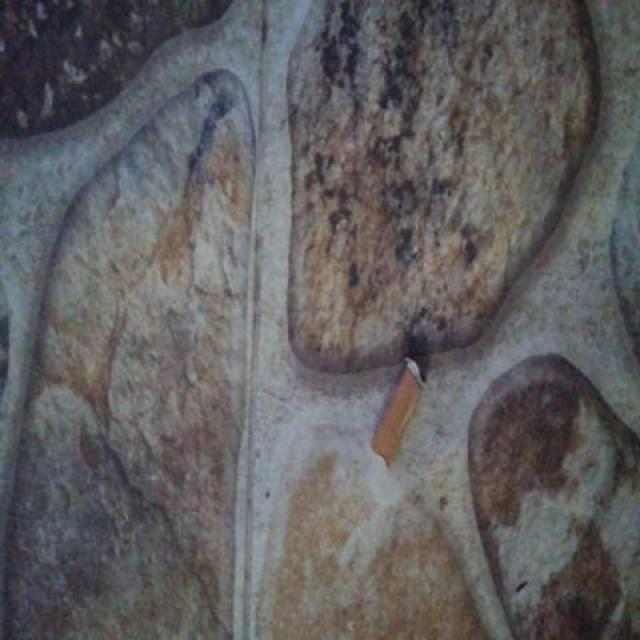non-organic waste: (368, 348, 432, 472)
